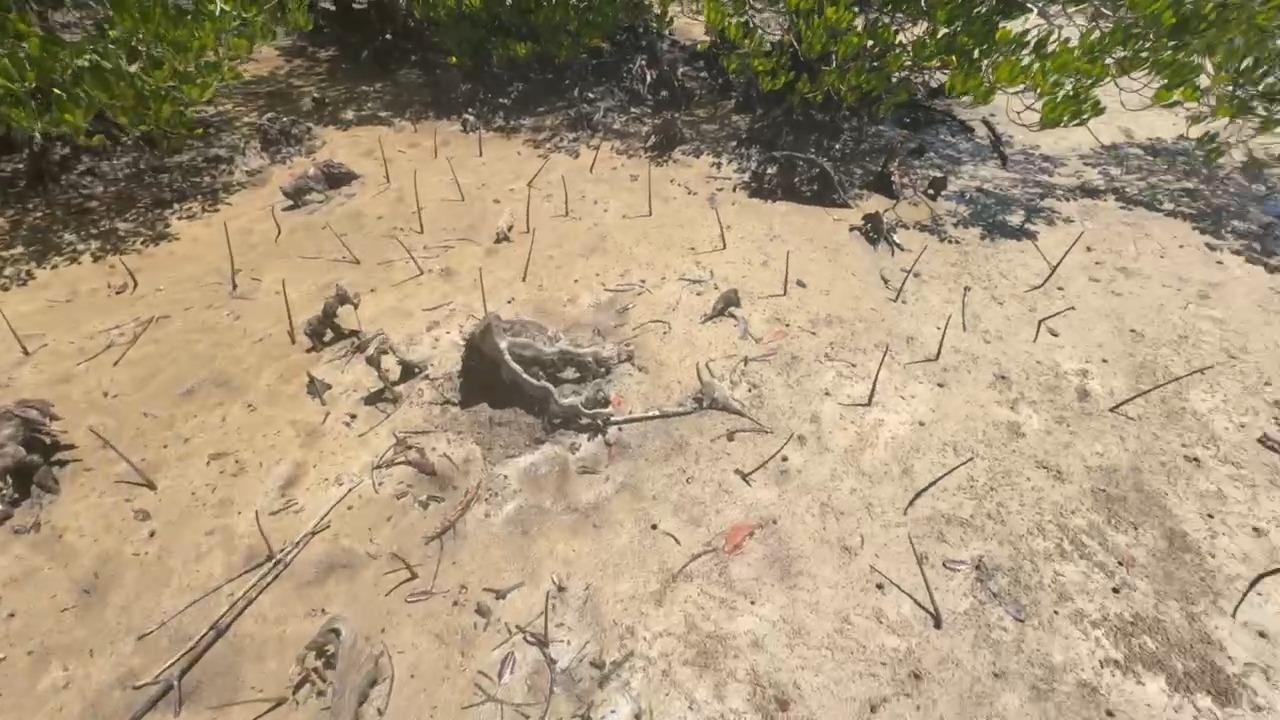Tree: (88, 426, 158, 492), (741, 432, 794, 480), (324, 220, 360, 265), (0, 304, 30, 357), (394, 235, 423, 274), (255, 510, 276, 559), (224, 221, 238, 291), (281, 277, 295, 344), (389, 552, 422, 579), (589, 131, 607, 177), (447, 157, 465, 201), (522, 227, 536, 281), (413, 170, 424, 236), (527, 158, 551, 187), (715, 204, 729, 249), (119, 255, 138, 287), (377, 133, 389, 181), (478, 267, 488, 316), (543, 590, 551, 649), (560, 174, 569, 217), (270, 205, 281, 239), (648, 158, 653, 216), (525, 183, 530, 233), (477, 122, 483, 157), (410, 107, 418, 131), (433, 128, 438, 158)
